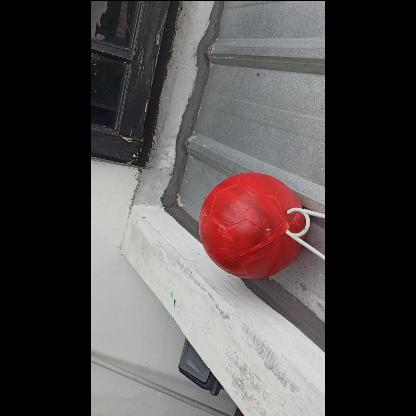red_ball: (199, 169, 305, 275)
